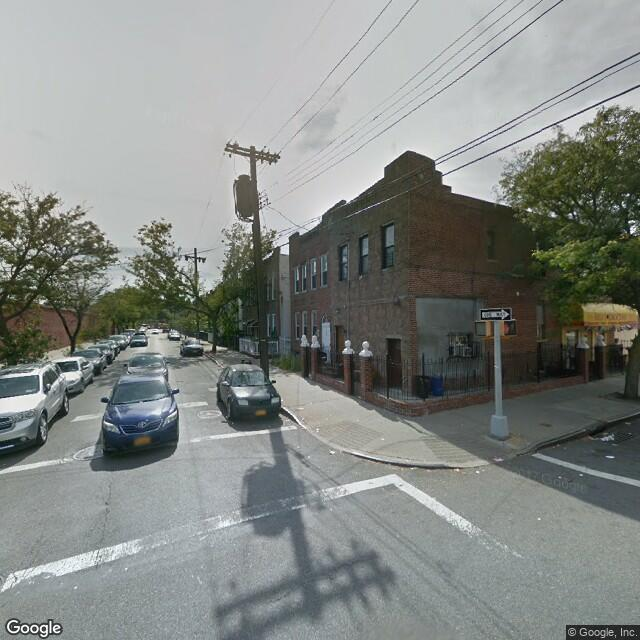litter: (603, 433, 616, 444), (606, 454, 615, 460), (555, 475, 565, 480), (580, 471, 584, 477)
